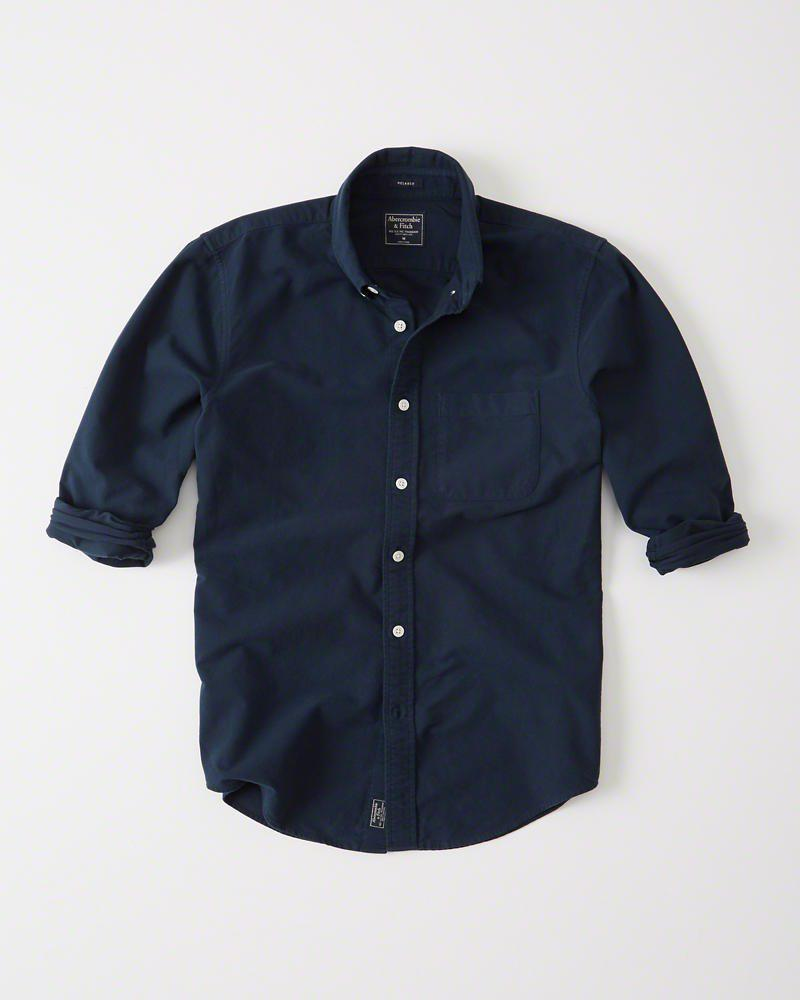teeshirt: (65, 139, 762, 853)
